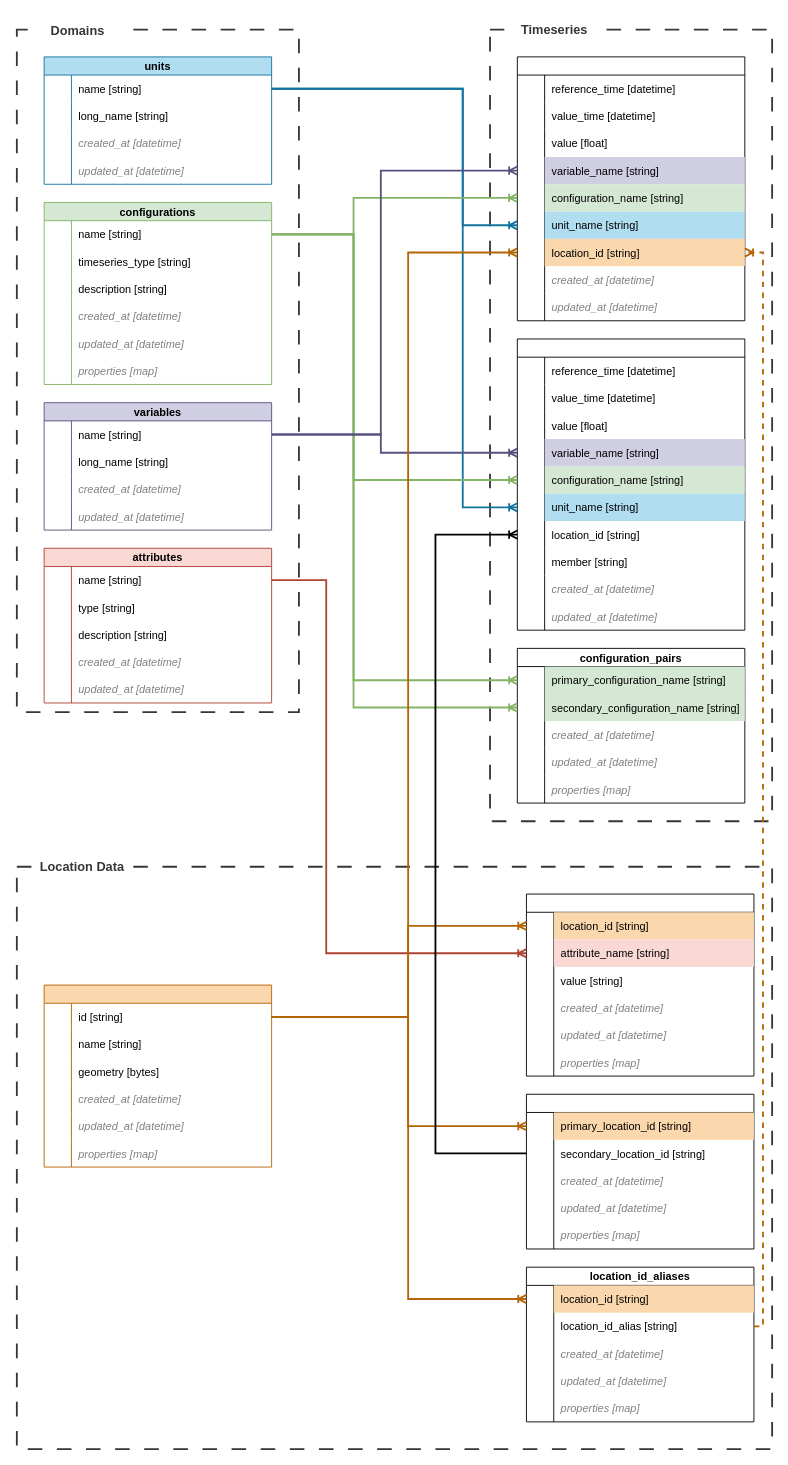
This 788x1465 diagram has some shape labels left out. The box of each missing label's shape, as (x1, y1, x2, y2) in pixels:
location_attributes: (526, 893, 754, 1076)
location_crosswalks: (526, 1093, 754, 1249)
locations: (43, 984, 272, 1167)
primary_timeseries: (516, 56, 745, 321)
secondary_timeseries: (516, 338, 745, 630)
